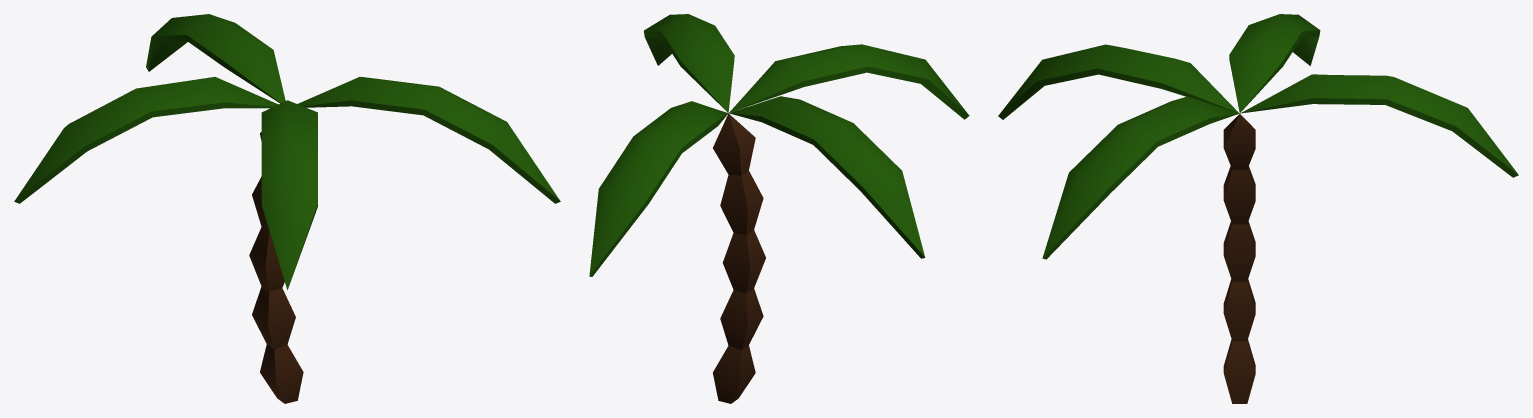
File: palmier.FBX
The picture shows the model from 3 angles, left to right: view 1: azimuth 30°, elevation 25°; view 2: azimuth 150°, elevation 25°; view 3: azimuth 270°, elevation 25°; orthographic projection.
Visible parts, largest first — view 1: Box053; view 2: Box053; view 3: Box053.
Part boxes in pixels (box(x1,y1,x2,y2)): Box053: box(14, 14, 560, 403); Box053: box(589, 14, 969, 403); Box053: box(998, 14, 1518, 403).
Size of the model in its own units: 74379 by 82959 by 57376.
